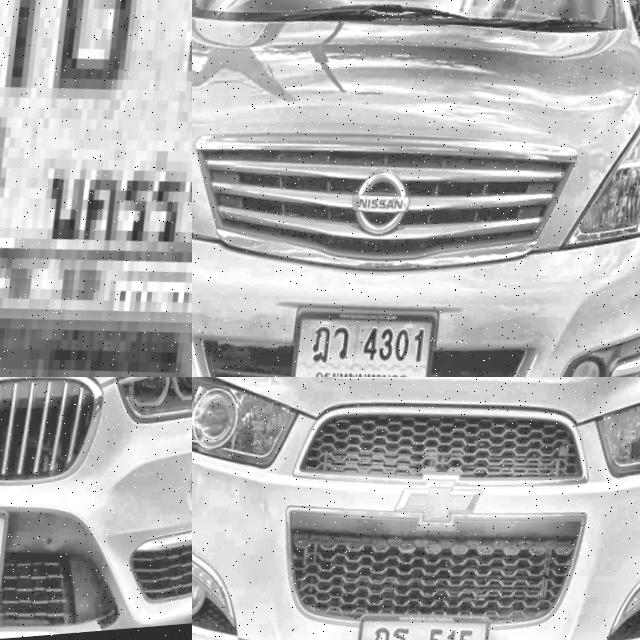license-plate: (0, 0, 192, 377), (283, 300, 440, 377), (349, 608, 491, 640)
